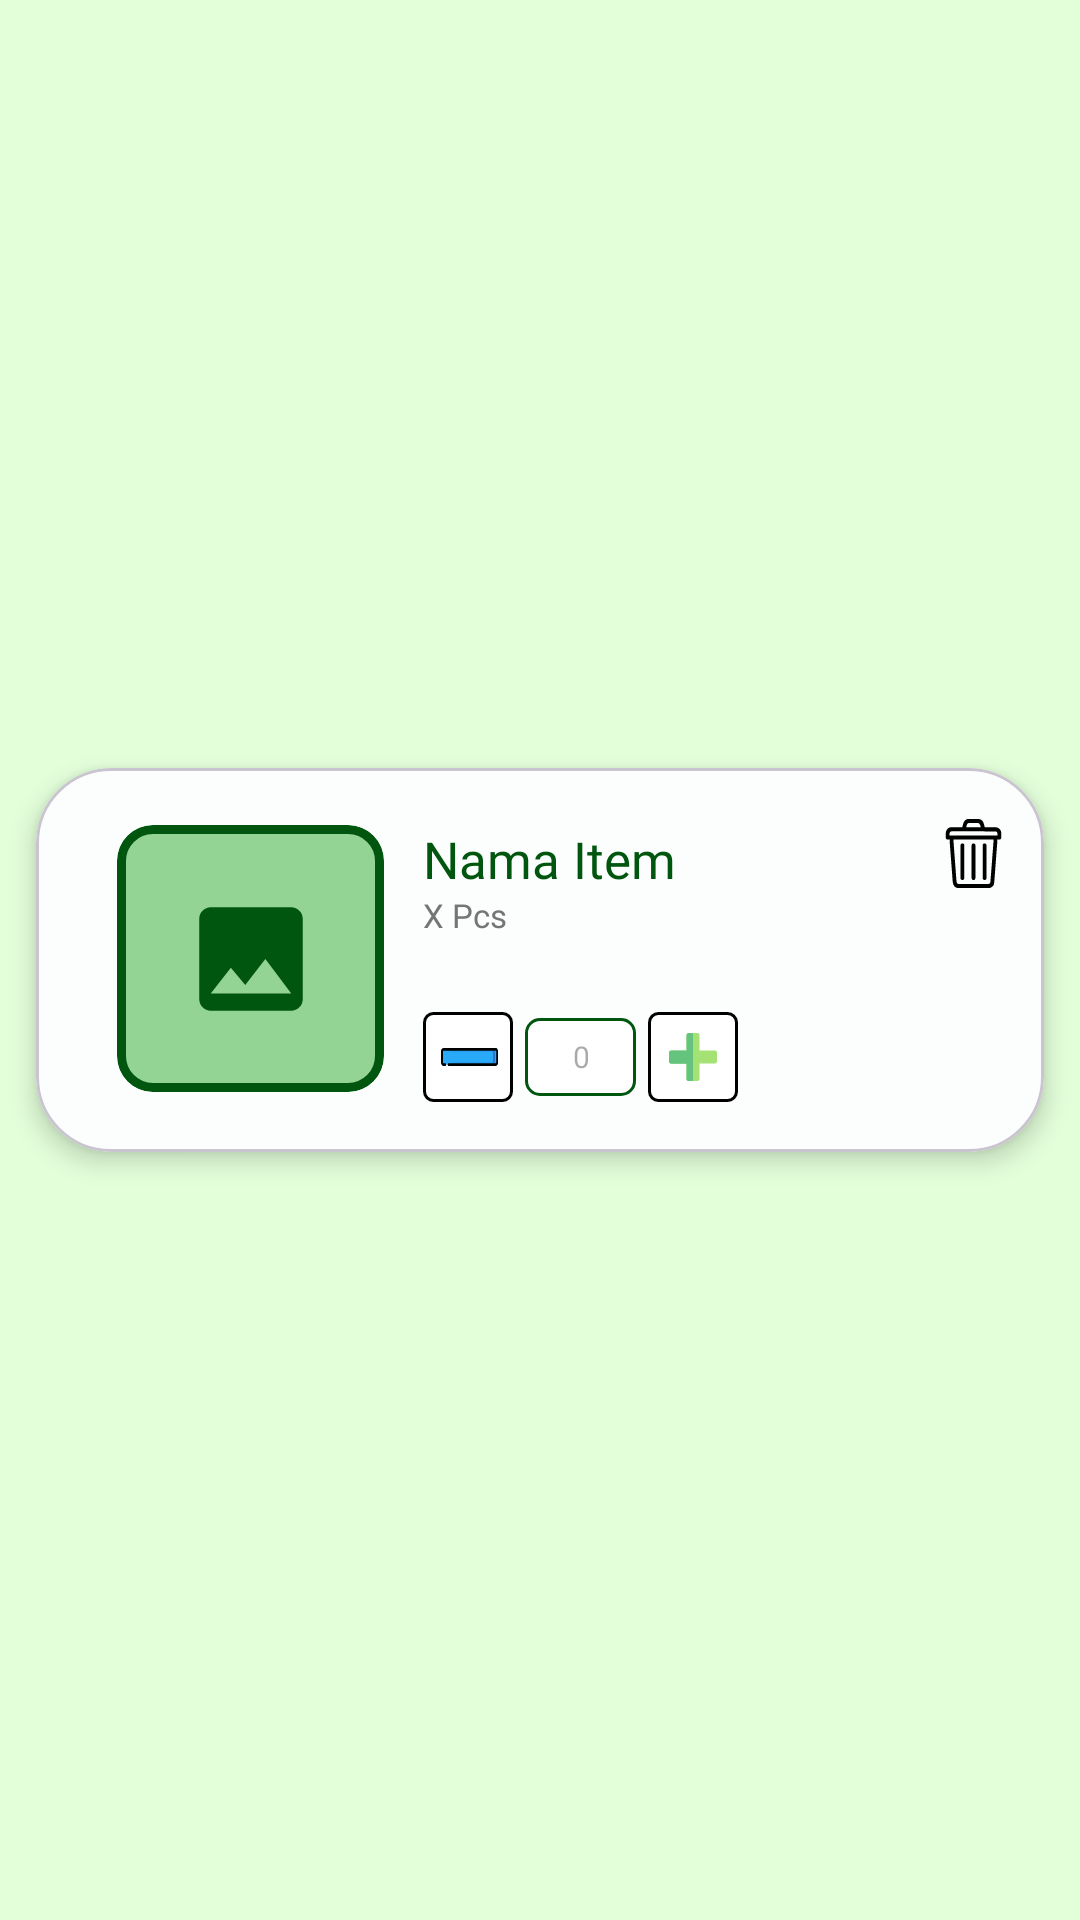

Screen size 1080w x 1920h. Icon name, then its center in pixels as (x,y):
Image Item List: (251,959)
plus: (693,1057)
trash: (973,853)
